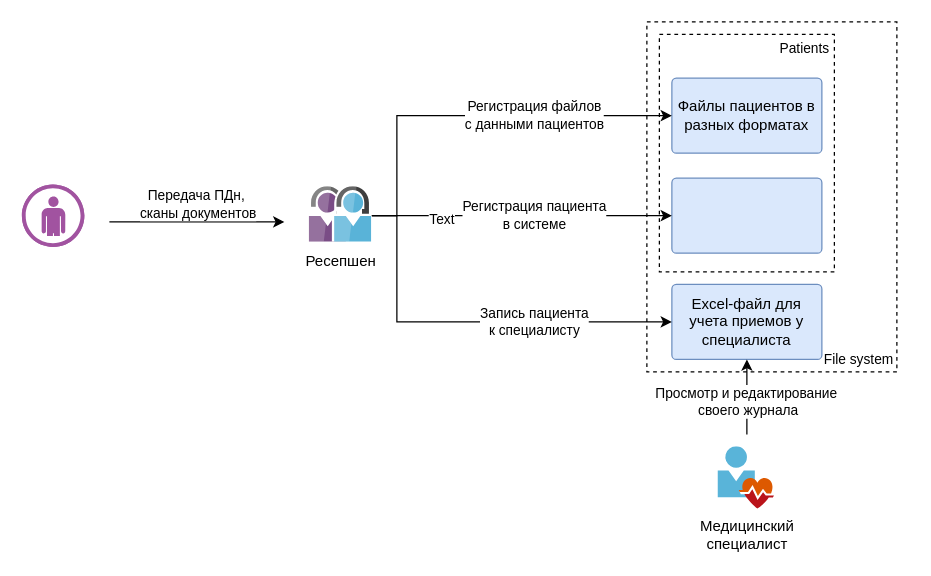
Some shapes in this 931 by 576 pixel diagram are drawn without their labels. Here are the shapes that lost their labels. From the top down, the box of each, then its label:
(21, 183, 84, 247): Пациент
(671, 177, 822, 253): Excel-файл со списком пациентов
